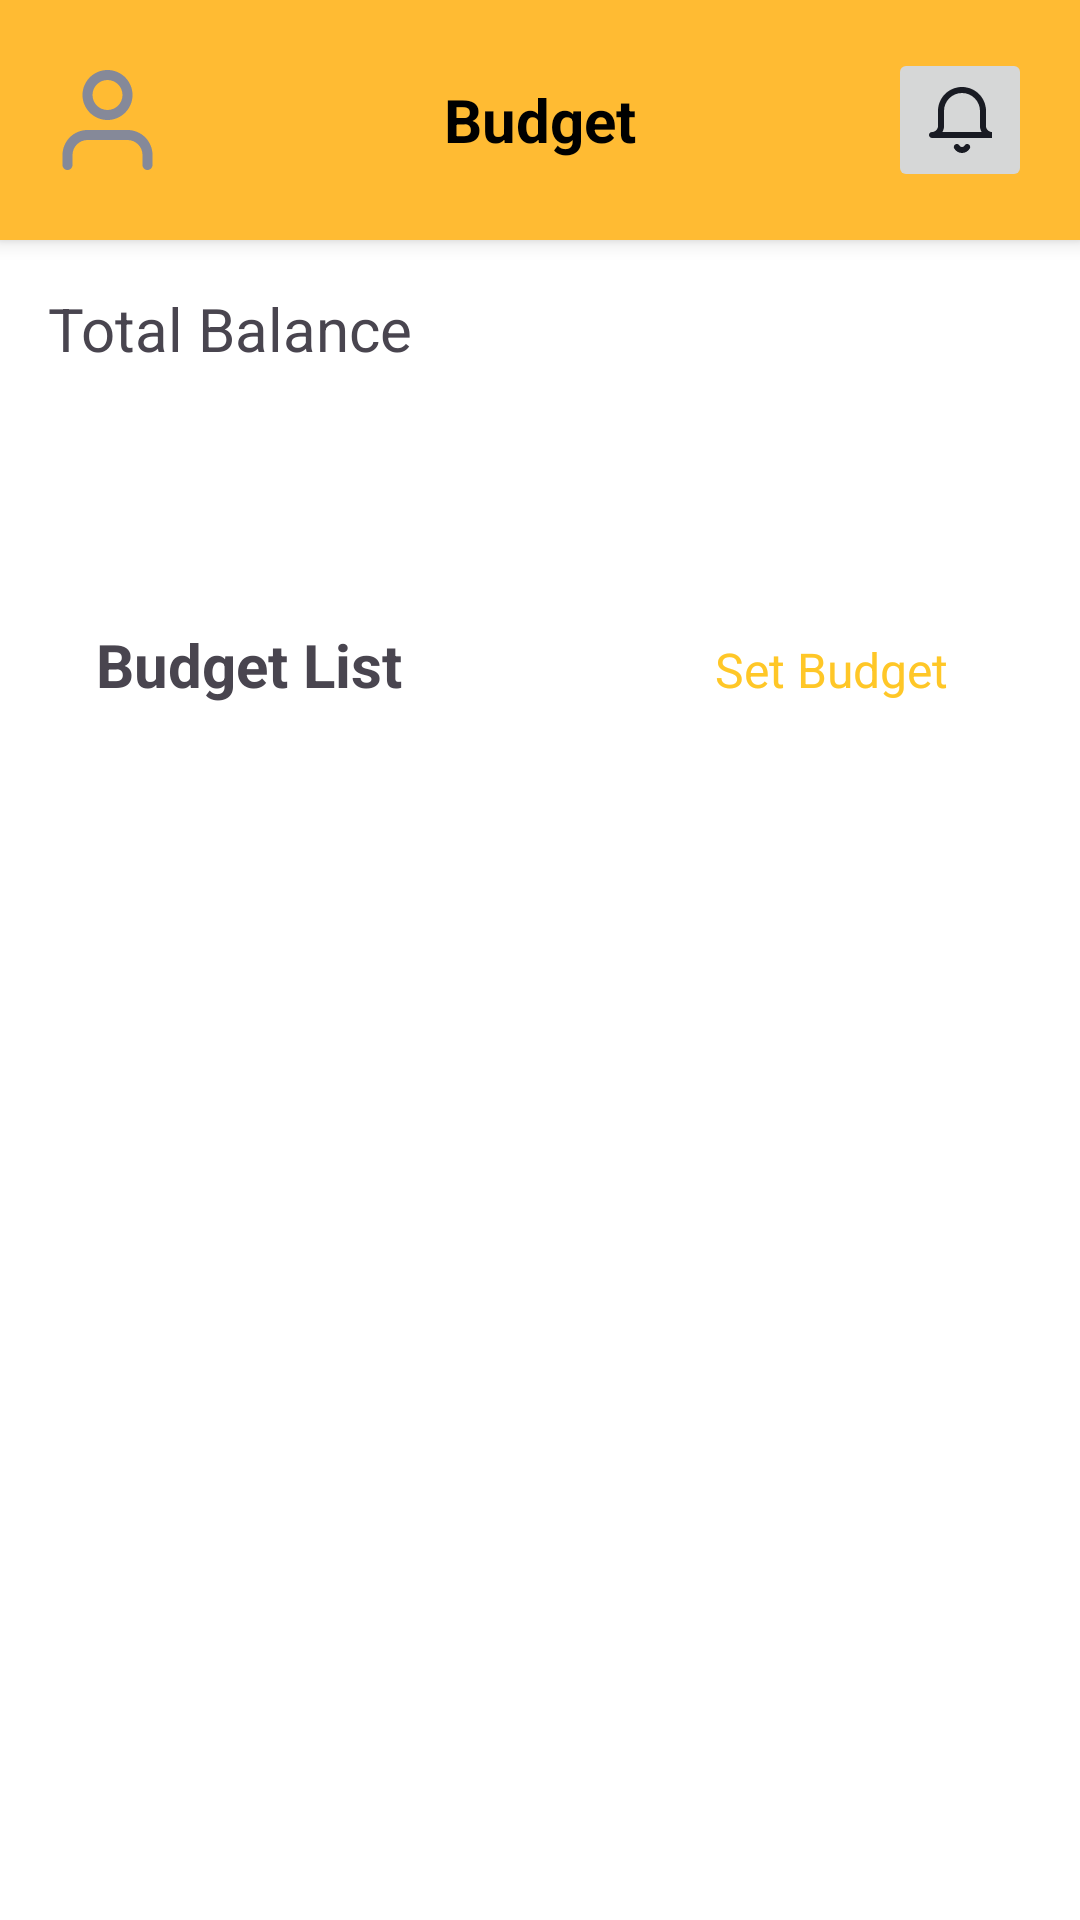

Icons on this 1080w x 1920h Android screen, each with its box as (x1, y1, x2, y2):
Notification: (900, 66, 1020, 174)
Profile: (62, 70, 153, 170)
